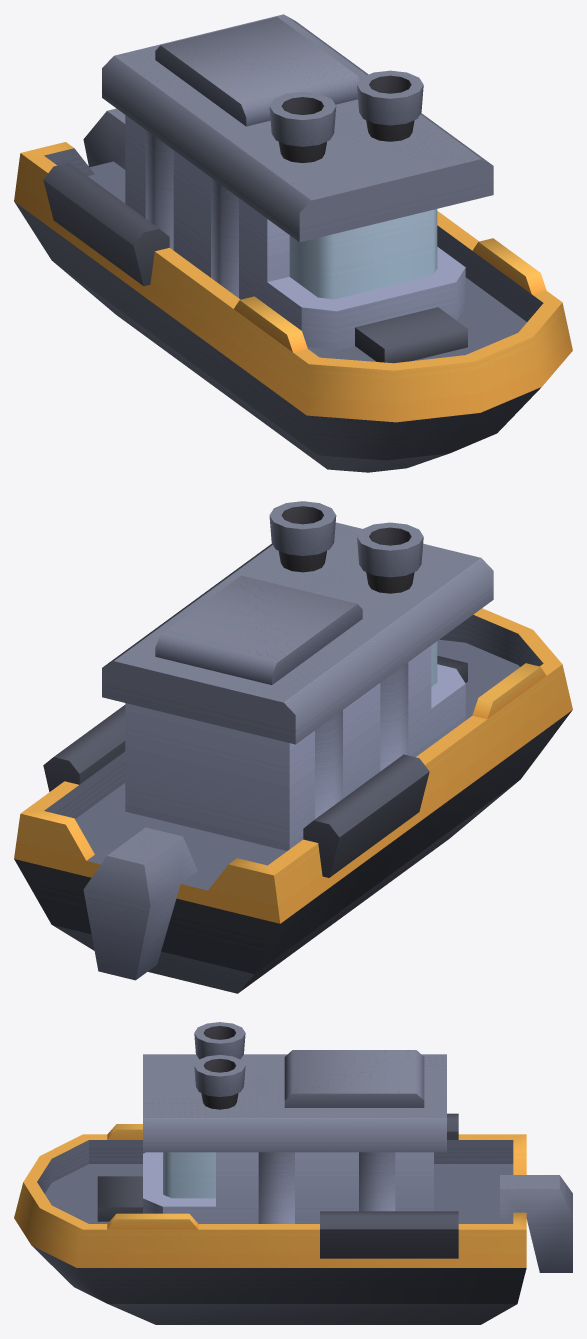
Rendered from boat-tow-b.glb.
3 renders of one model, top to bottom at view 1: azimuth 30°, elevation 25°; view 2: azimuth 150°, elevation 25°; view 3: azimuth 270°, elevation 25°, orthographic. The views are drawn at different scales.
Visible parts, largest first — view 1: boat-tow-b; view 2: boat-tow-b; view 3: boat-tow-b.
Boxes of the visible parts, box(x1,y1,x2,y2) form: boat-tow-b: box(14, 14, 572, 472); boat-tow-b: box(14, 501, 572, 993); boat-tow-b: box(14, 1022, 572, 1324).
Size of the model in its own units: 2.88 by 3.05 by 6.12.
Materials: 1 (1 with a texture image).
